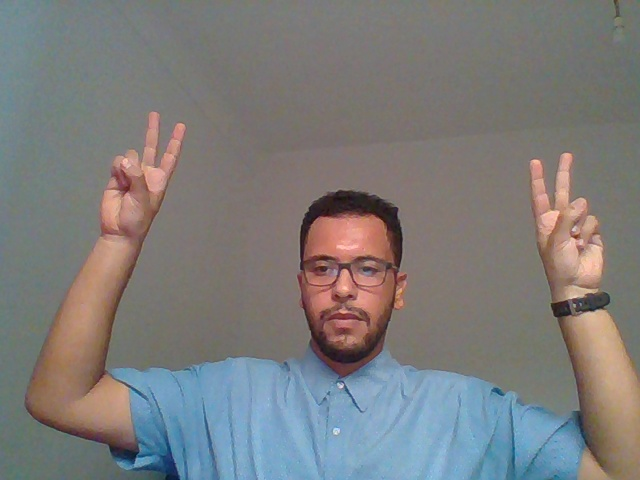vectory: (40, 61, 209, 345), (517, 123, 627, 452)
